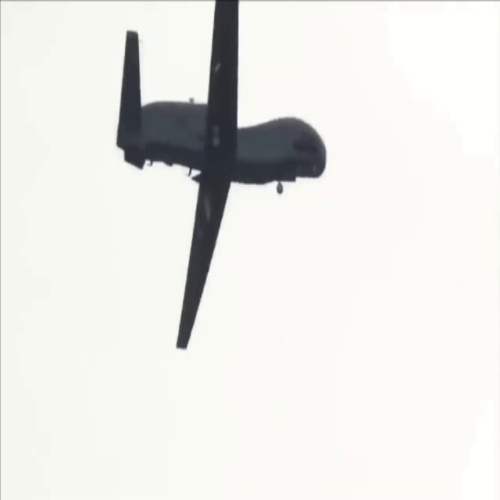uav: (114, 1, 329, 351)
